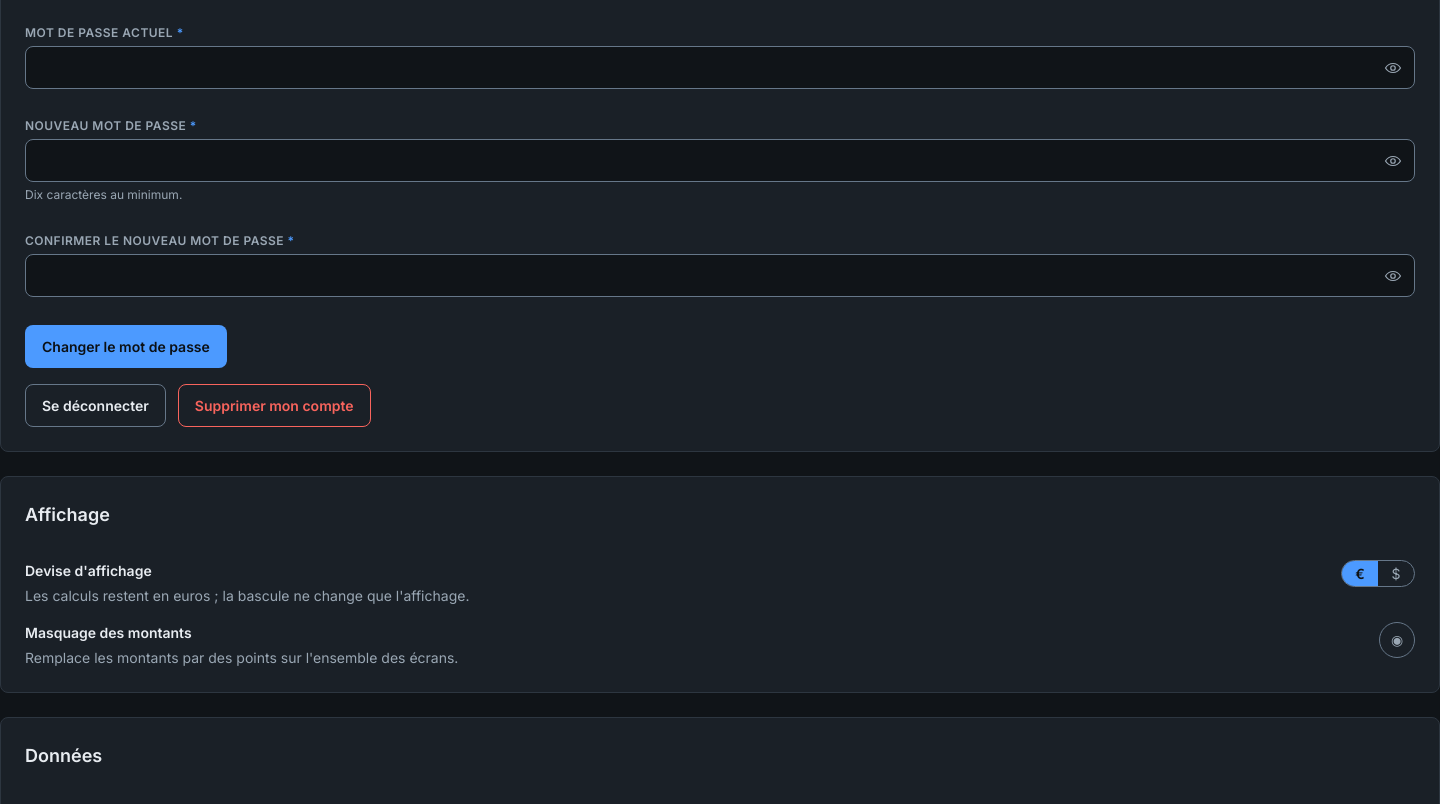
Test: suppression du compte › énonce ce qui sera supprimé et que l’opération est irréversible
(page scrolled)
Click the button "Supprimer mon compte" at (274, 406), box [178,384,371,427]
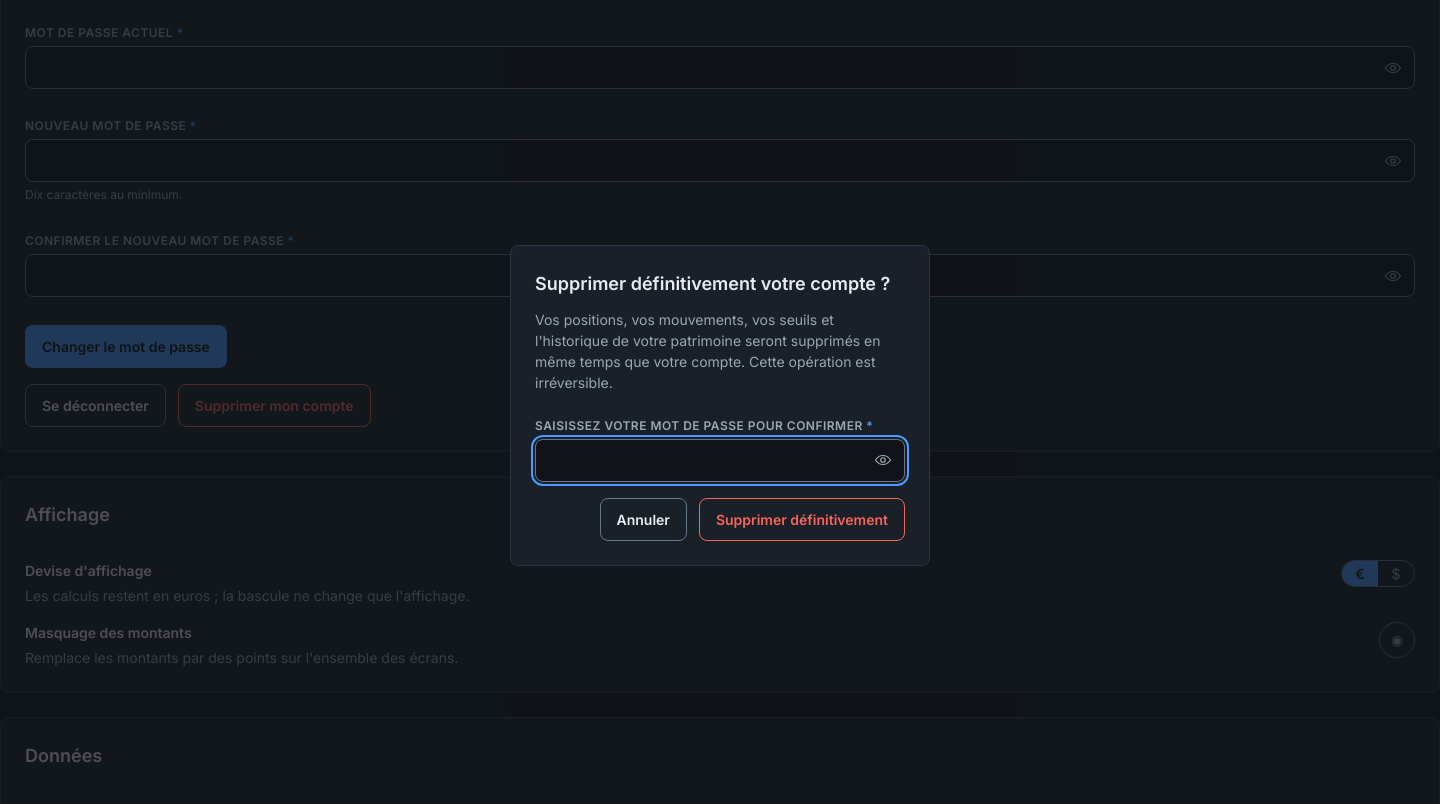
Check: the dialog shows "mouvements", box [535,310,881,390]
Check: the dialog shows "seuils", box [535,310,881,390]
Check: the dialog shows "irréversible", box [535,310,881,390]
